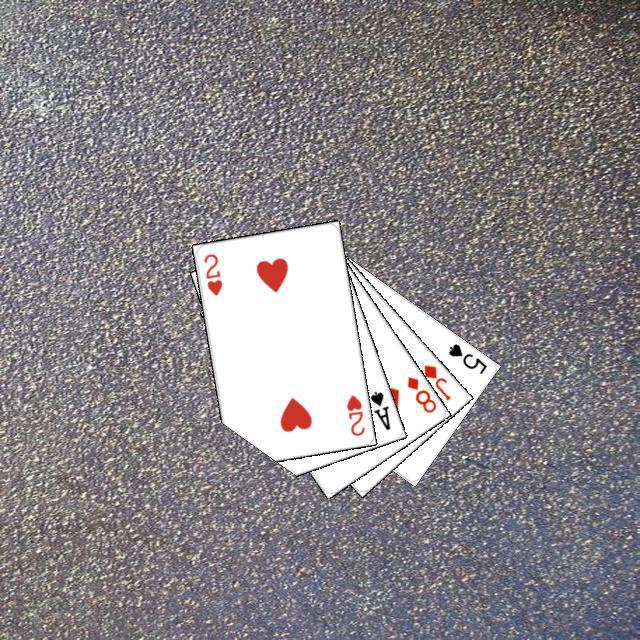2h: (341, 390, 367, 438), (199, 249, 224, 297)
5s: (443, 338, 489, 376)
8d: (402, 371, 438, 415)
As: (365, 386, 392, 432)
Jd: (419, 359, 452, 402)
